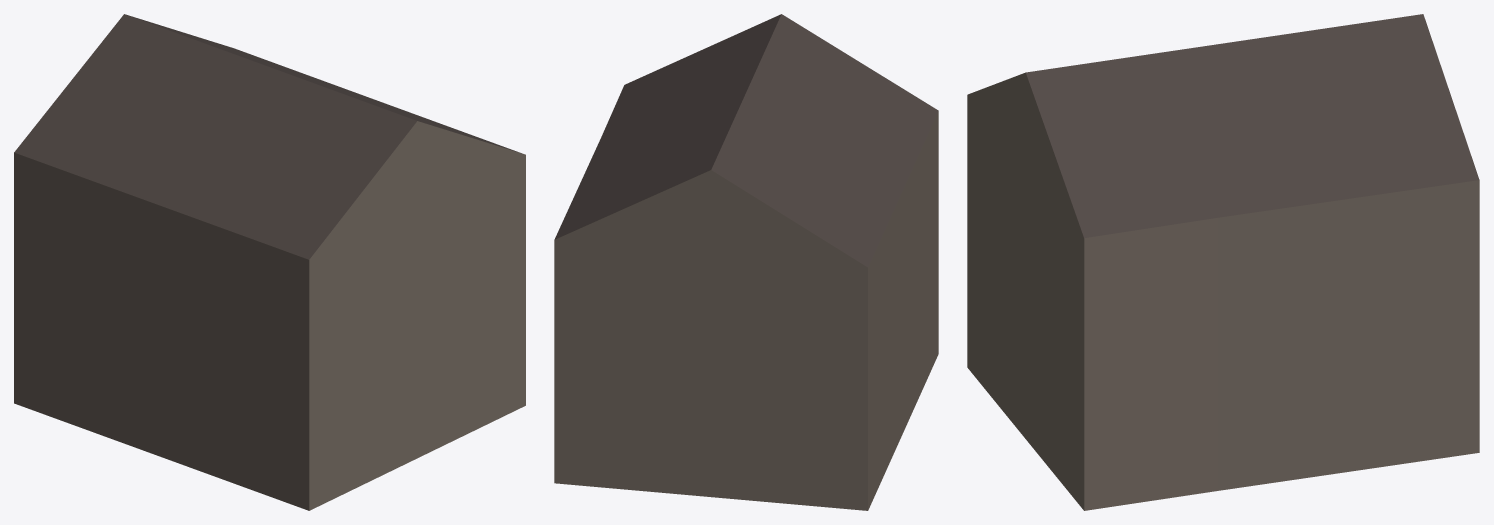
3 renders of one model, left to right at view 1: azimuth 30°, elevation 25°; view 2: azimuth 150°, elevation 25°; view 3: azimuth 270°, elevation 25°, orthographic. The views are drawn at different scales.
Visible parts, largest first — view 1: HP-w1198645108; view 2: HP-w1198645108; view 3: HP-w1198645108.
Part boxes in pixels (x1=…): HP-w1198645108: x1=14, y1=14, x2=525, y2=510; HP-w1198645108: x1=554, y1=14, x2=938, y2=510; HP-w1198645108: x1=967, y1=14, x2=1479, y2=510.
Bounding box in the file's own units: 9.55 × 8.07 × 10.21.
